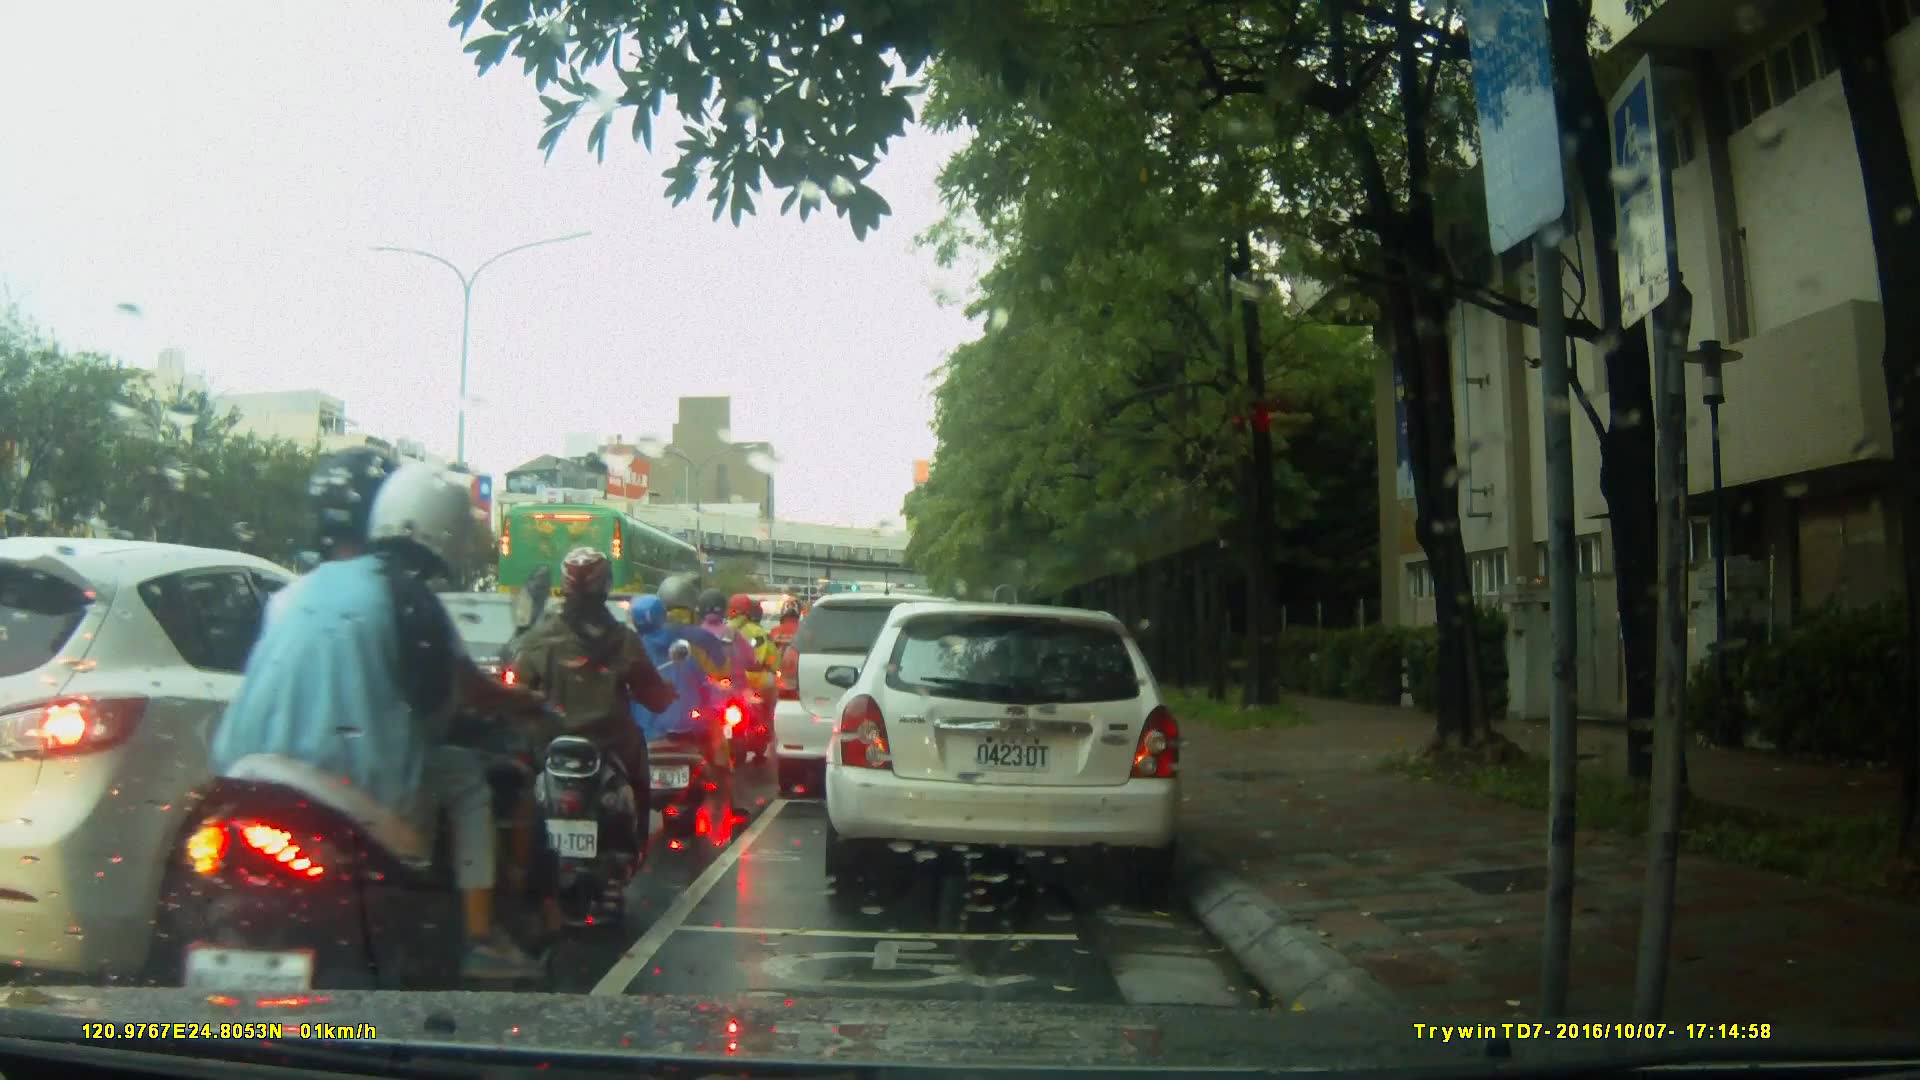rider: (156, 447, 557, 1031), (514, 543, 689, 920), (629, 582, 717, 825), (688, 593, 760, 772), (726, 596, 792, 761), (770, 596, 814, 729)
vehicle: (4, 535, 466, 988), (831, 592, 1196, 897), (312, 589, 629, 776), (771, 590, 999, 804), (501, 503, 709, 636)
